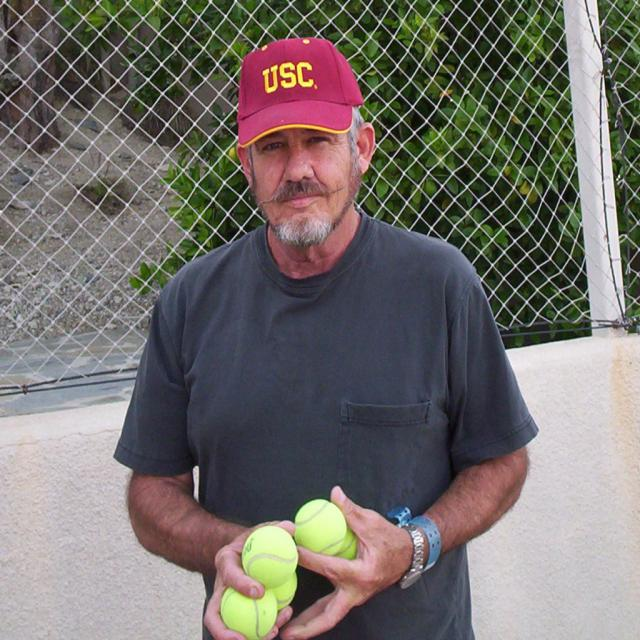Tennis ball: (218, 496, 360, 637)
